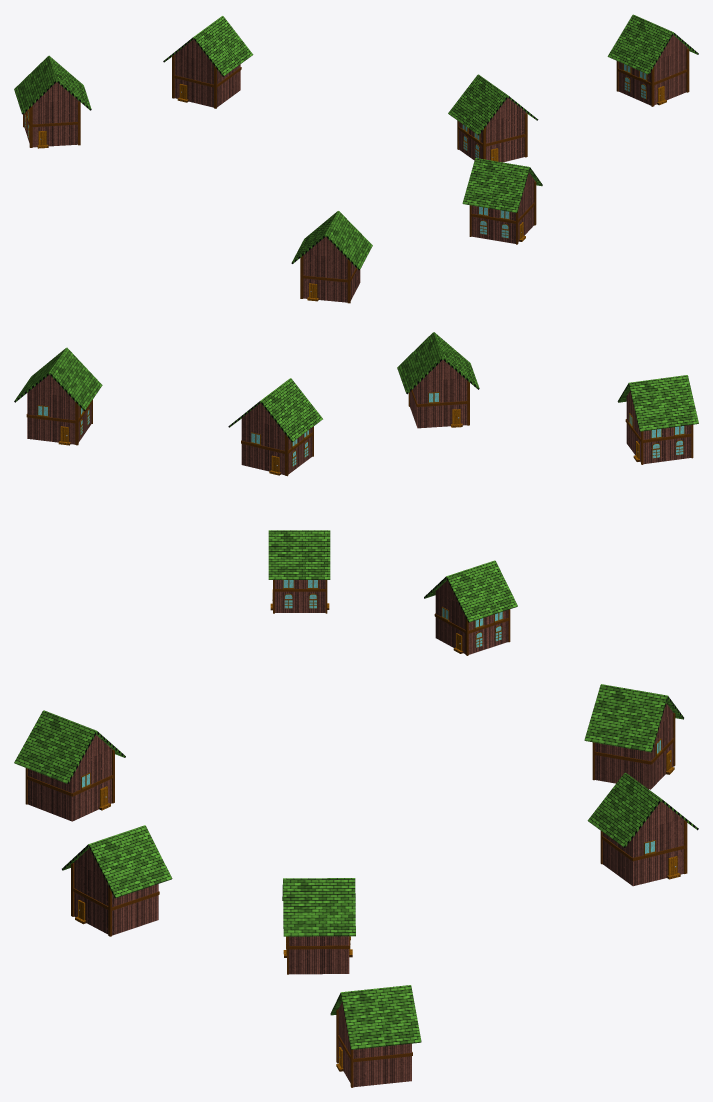
The model's file is CasasVerdesfbx.fbx.
3 views of the same model, one above another, from view 1: azimuth 30°, elevation 25°; view 2: azimuth 150°, elevation 25°; view 3: azimuth 270°, elevation 25° (orthographic). The views are drawn at different scales.
Parts seen in each view (by area): view 1: Verde; view 2: Verde; view 3: Verde.
Boxes of the visible parts, x1,y1,x2,y2 form: Verde: (14, 14, 698, 303); Verde: (14, 332, 698, 655); Verde: (14, 684, 698, 1087).
Bounding box in the file's own units: 5310 × 603 × 4480.
